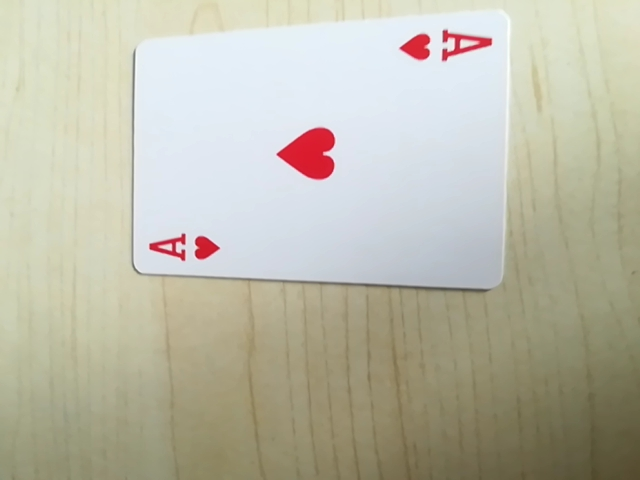hx a: (398, 20, 498, 72), (144, 225, 226, 269)
